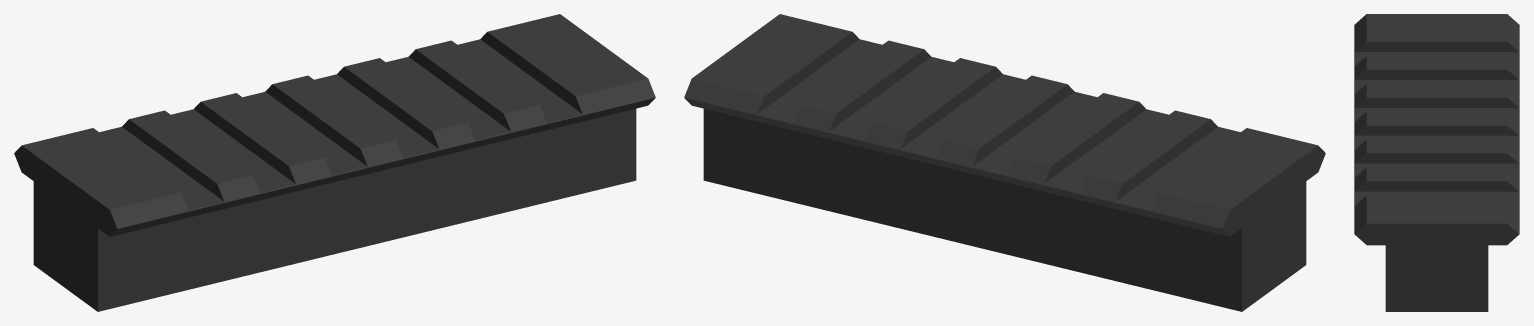
Rendered from Mod_01.fbx.
3 views of the same model, side by side, from view 1: azimuth 30°, elevation 25°; view 2: azimuth 150°, elevation 25°; view 3: azimuth 270°, elevation 25° (orthographic). The views are drawn at different scales.
Visible parts, largest first — view 1: Mod_01; view 2: Mod_01; view 3: Mod_01.
Boxes of the visible parts, box(x1,y1,x2,y2) form: Mod_01: box(14, 14, 655, 311); Mod_01: box(684, 14, 1325, 311); Mod_01: box(1354, 14, 1519, 311).
Size of the model in its own units: 0.0743 by 0.0146 by 0.0247.
